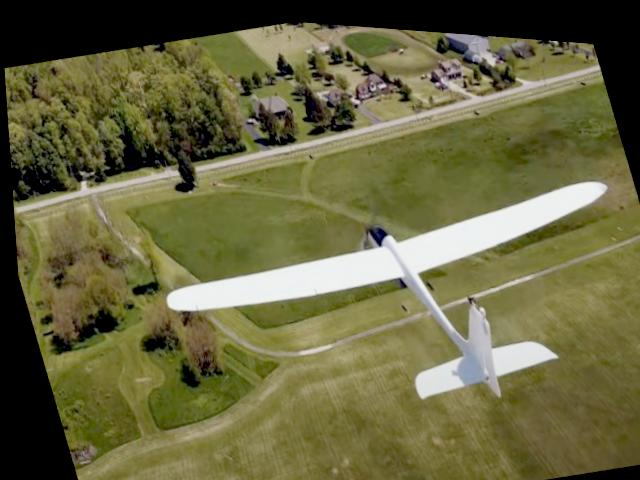iha: (142, 143, 640, 460)
